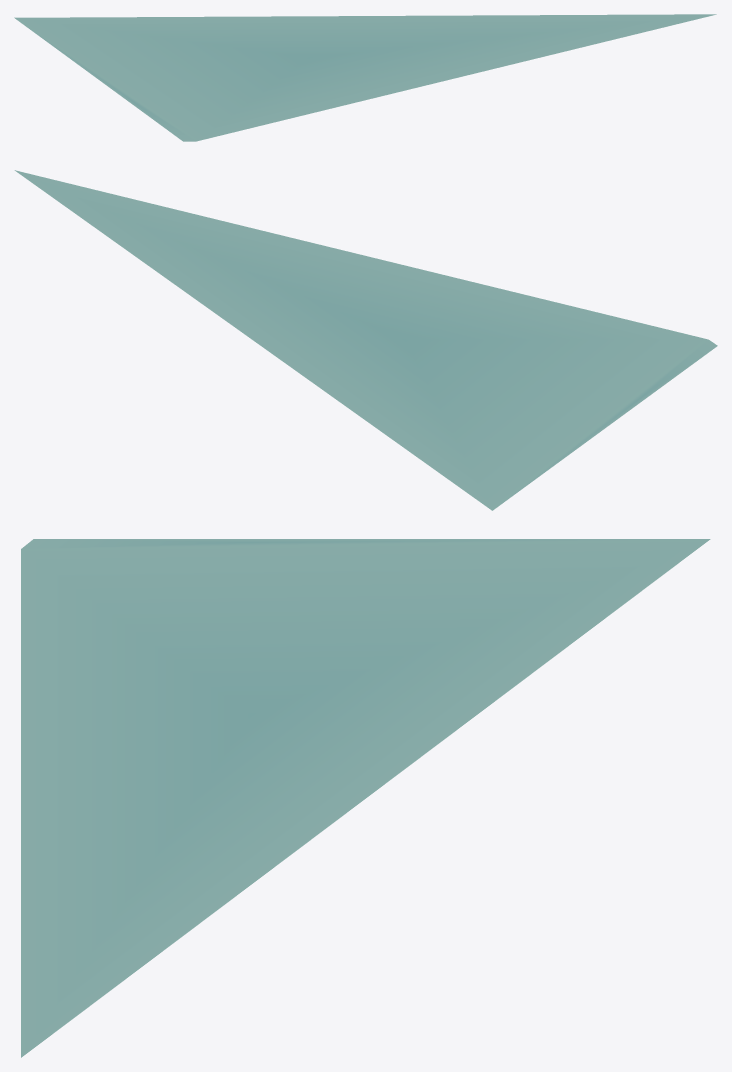
The model's file is water-21-4.glb.
The picture shows the model from 3 angles, top to bottom: view 1: azimuth 30°, elevation 25°; view 2: azimuth 150°, elevation 25°; view 3: azimuth 270°, elevation 25°; orthographic projection. The views are drawn at different scales.
Size of the model in its own units: 8.9 by 0 by 5.
